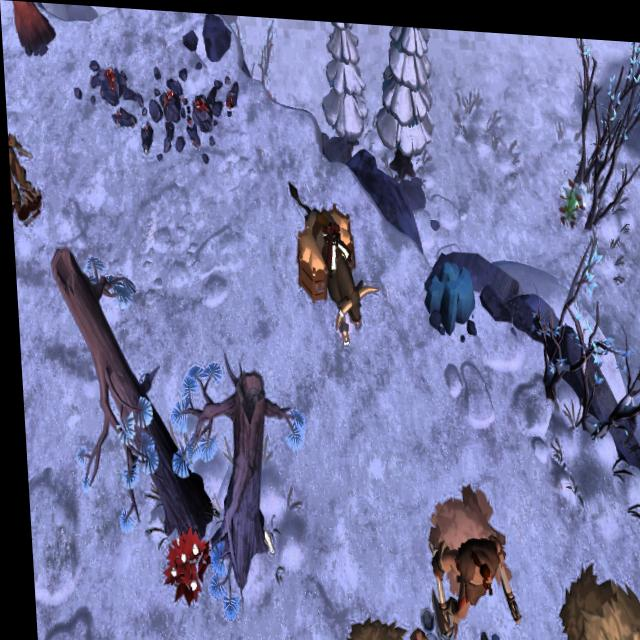enemy_factionKeeper: (423, 530, 513, 640), (5, 112, 28, 216)
fiber_t5: (156, 521, 207, 607)
rock_t4: (419, 244, 474, 331)
rock_t5: (9, 0, 56, 60)
